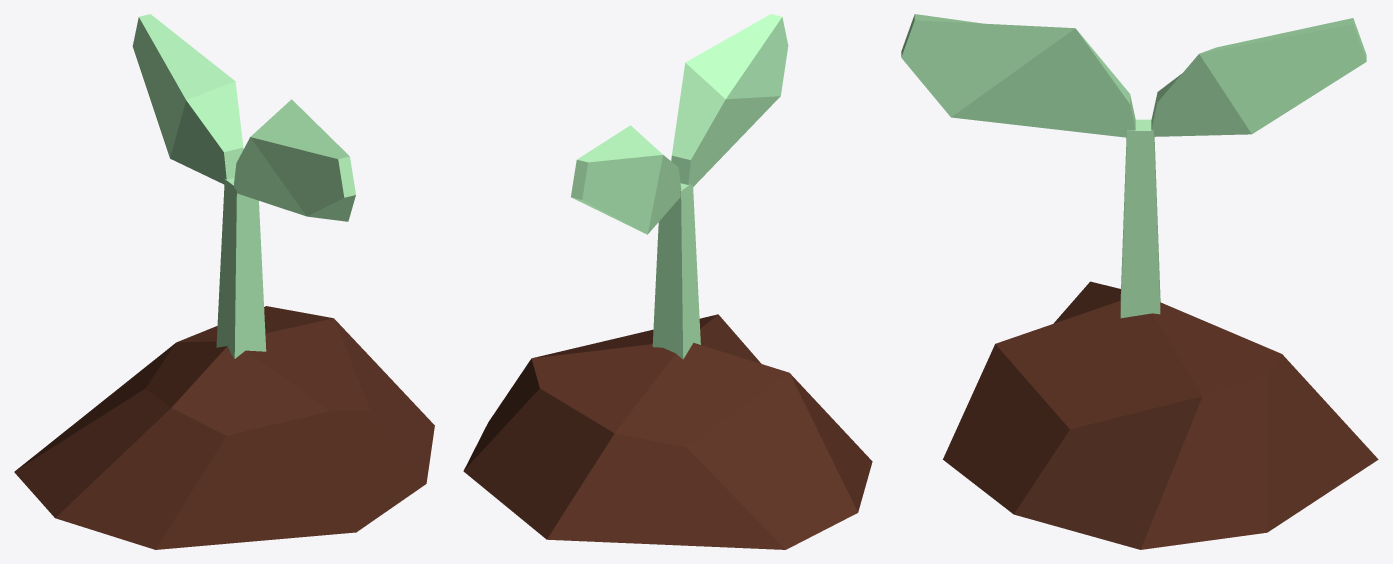
The model's file is sprout.gltf.
3 renders of one model, left to right at view 1: azimuth 30°, elevation 25°; view 2: azimuth 150°, elevation 25°; view 3: azimuth 270°, elevation 25°, orthographic. The views are drawn at different scales.
Parts seen in each view (by area): view 1: Cube.005, Cube.008, Cube.007, Cube.006; view 2: Cube.005, Cube.007, Cube.008, Cube.006; view 3: Cube.005, Cube.007, Cube.008, Cube.006.
Boxes of the visible parts, x1=… form: Cube.005: x1=14, y1=306, x2=434, y2=549; Cube.008: x1=132, y1=14, x2=243, y2=184; Cube.007: x1=234, y1=99, x2=355, y2=221; Cube.006: x1=216, y1=178, x2=266, y2=358; Cube.005: x1=463, y1=314, x2=872, y2=549; Cube.007: x1=671, y1=14, x2=788, y2=186; Cube.008: x1=571, y1=125, x2=681, y2=234; Cube.006: x1=652, y1=183, x2=700, y2=359; Cube.005: x1=943, y1=281, x2=1378, y2=549; Cube.007: x1=901, y1=14, x2=1135, y2=137; Cube.008: x1=1151, y1=18, x2=1366, y2=136; Cube.006: x1=1120, y1=119, x2=1160, y2=318.
Bounding box in the file's own units: 5.4 × 5.3 × 5.35.
